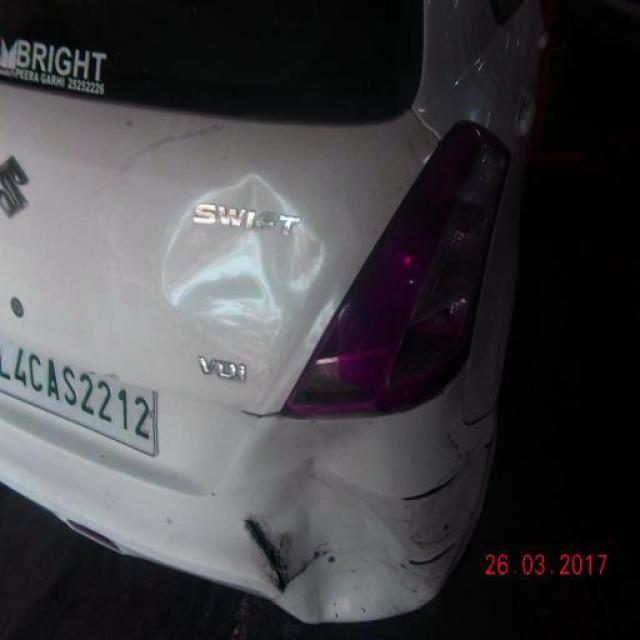Car-Damage: (157, 179, 330, 367), (291, 461, 435, 624), (244, 513, 287, 597), (284, 541, 340, 594), (401, 459, 466, 504), (406, 535, 461, 575)
